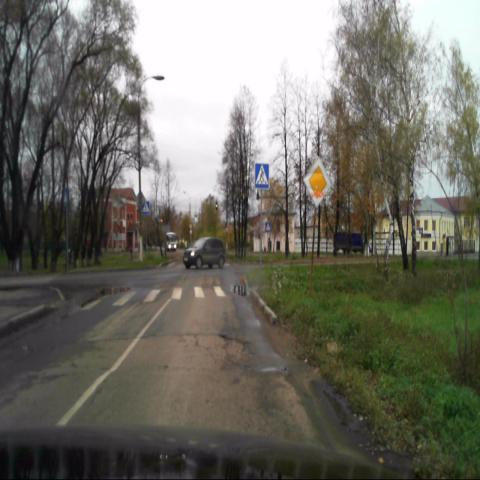2_1: (305, 155, 331, 210)
5_19_1: (254, 163, 269, 190)
